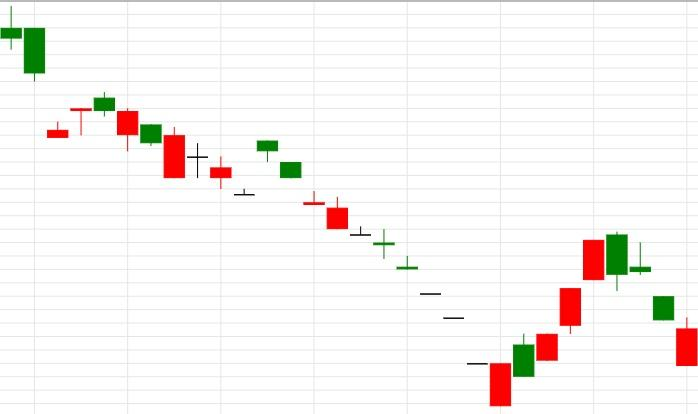bearish_engulfing_fall: (490, 232, 628, 406)
three_white_soldiers_rise: (257, 140, 604, 406)
